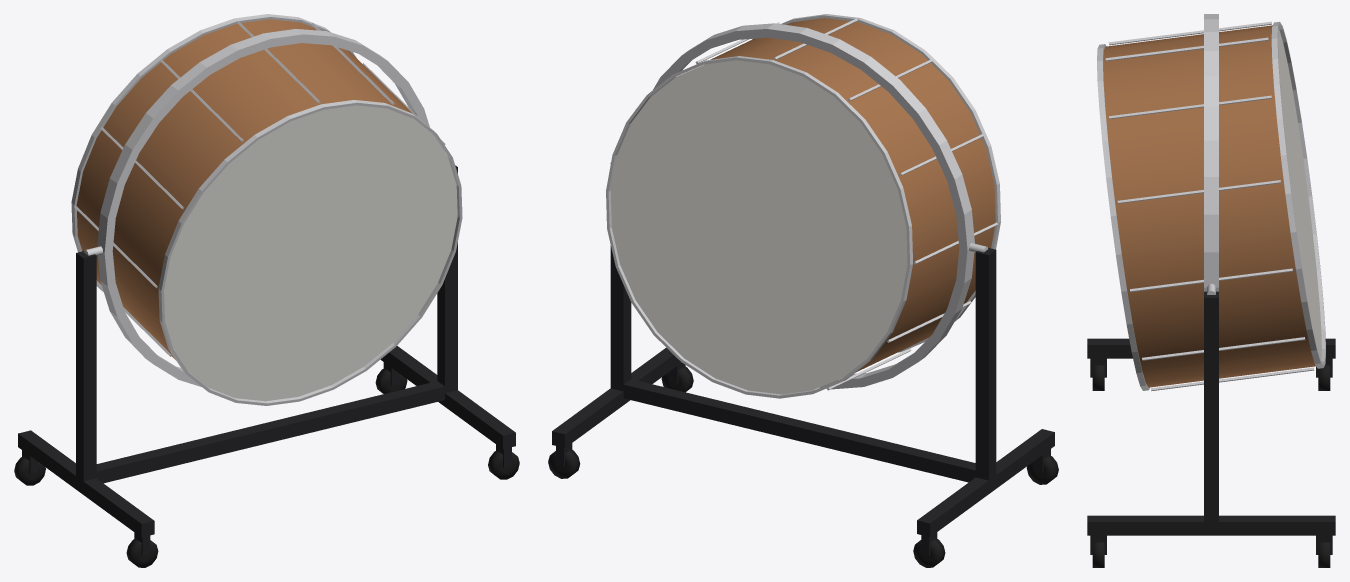
The model's file is concert-bass-36.glb.
The picture shows the model from 3 angles, left to right: view 1: azimuth 30°, elevation 25°; view 2: azimuth 150°, elevation 25°; view 3: azimuth 270°, elevation 25°; orthographic projection.
Parts seen in each view (by area): view 1: head, shell-wood, frame, metal, rubber; view 2: head, shell-wood, frame, metal, rubber; view 3: shell-wood, metal, frame, head, rubber.
Boxes of the visible parts, x1,y1,x2,y2 form: head: (164, 105, 457, 401); shell-wood: (76, 19, 412, 359); frame: (18, 165, 515, 555); metal: (71, 14, 462, 405); rubber: (14, 368, 519, 567); head: (610, 60, 907, 394); shell-wood: (710, 18, 995, 371); frame: (552, 163, 1054, 555); metal: (606, 14, 1000, 398); rubber: (548, 366, 1058, 567); shell-wood: (1103, 25, 1315, 387); metal: (1097, 14, 1325, 391); frame: (1087, 291, 1335, 554); head: (1278, 29, 1321, 361); rubber: (1092, 365, 1330, 567).
Bounding box in the file's own units: 1.19 × 1.31 × 0.66.
